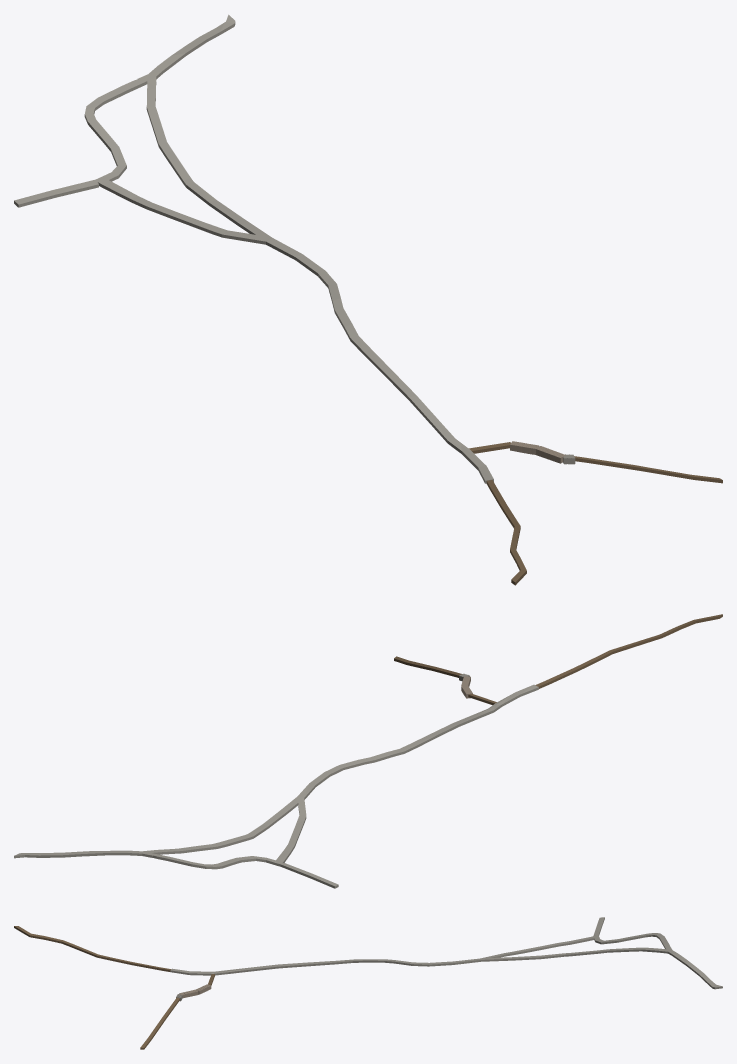
3 views of the same model, one above another, from view 1: azimuth 30°, elevation 25°; view 2: azimuth 150°, elevation 25°; view 3: azimuth 270°, elevation 25° (orthographic). The views are drawn at different scales.
Bounding box in the file's own units: 73.42 × 24.56 × 243.
